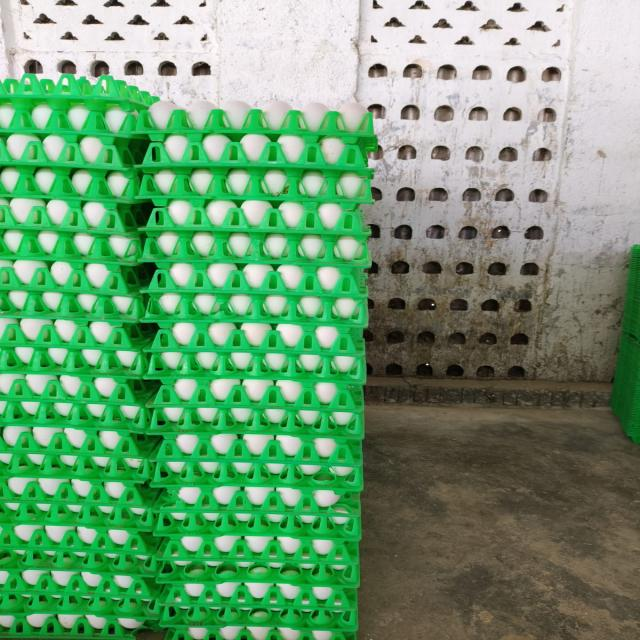egg_tray: (145, 201, 368, 326), (154, 486, 359, 614), (154, 484, 359, 606), (138, 102, 377, 205), (151, 443, 362, 540), (158, 514, 358, 610), (0, 478, 157, 600), (159, 536, 357, 630), (0, 198, 149, 321), (0, 522, 157, 638), (0, 316, 155, 431), (145, 322, 363, 400), (143, 200, 370, 268), (2, 478, 156, 576), (0, 95, 142, 201), (142, 262, 367, 327), (151, 433, 362, 502), (154, 490, 360, 560), (153, 483, 359, 552), (159, 556, 356, 628), (145, 322, 365, 386), (137, 100, 377, 157), (147, 378, 363, 437), (0, 524, 158, 601), (0, 74, 155, 148), (0, 468, 156, 541), (0, 96, 147, 170), (157, 535, 358, 589), (143, 231, 370, 277), (0, 574, 158, 640), (137, 164, 373, 208), (0, 520, 158, 584), (139, 134, 372, 177), (0, 132, 141, 202), (0, 198, 147, 265), (0, 421, 157, 482), (0, 470, 157, 531), (0, 259, 151, 322), (0, 95, 146, 160), (160, 592, 357, 640), (0, 318, 154, 379), (142, 200, 369, 241), (159, 562, 358, 608), (0, 374, 157, 432), (159, 581, 356, 625), (0, 131, 141, 191), (158, 559, 359, 600), (0, 550, 158, 600), (160, 592, 357, 632), (147, 402, 363, 438), (0, 594, 158, 640), (159, 604, 357, 640), (0, 560, 159, 602), (0, 73, 157, 111), (166, 609, 356, 640), (0, 198, 147, 238), (0, 166, 147, 206), (0, 339, 148, 378), (166, 610, 356, 640), (0, 524, 158, 560), (0, 225, 142, 265), (0, 259, 149, 297), (0, 610, 146, 640), (166, 624, 356, 640), (622, 245, 639, 338), (75, 578, 151, 598), (265, 536, 333, 556), (612, 385, 636, 436), (101, 529, 139, 546), (103, 482, 136, 501), (617, 340, 637, 371), (268, 487, 300, 502), (10, 492, 35, 510), (213, 486, 257, 496), (166, 518, 198, 530), (3, 583, 35, 594), (325, 142, 340, 161), (234, 536, 260, 546), (42, 581, 62, 594), (111, 241, 127, 257), (85, 461, 100, 476), (82, 144, 98, 157), (315, 588, 330, 600), (25, 478, 40, 490), (243, 536, 257, 547), (198, 487, 211, 498), (249, 384, 260, 395), (183, 538, 197, 546), (45, 478, 63, 484), (282, 438, 297, 445), (56, 485, 64, 498), (335, 594, 346, 603), (44, 485, 52, 497), (249, 143, 257, 155), (47, 153, 60, 160), (279, 536, 289, 545), (293, 602, 308, 608), (47, 141, 55, 152), (623, 376, 634, 384), (270, 587, 277, 599), (270, 588, 277, 600), (118, 574, 127, 583), (289, 142, 299, 150), (335, 594, 346, 601), (183, 486, 198, 491), (203, 499, 211, 508), (303, 490, 313, 497), (216, 538, 227, 544), (179, 388, 186, 397), (290, 518, 295, 530), (13, 479, 23, 485), (309, 595, 316, 603), (238, 586, 247, 592), (50, 528, 56, 537), (47, 580, 57, 585), (336, 602, 343, 609), (3, 524, 10, 531), (14, 235, 21, 242), (234, 520, 242, 526), (133, 580, 141, 586), (318, 591, 327, 596), (14, 486, 19, 495), (238, 587, 247, 592), (261, 384, 268, 390), (57, 572, 63, 579), (65, 588, 72, 594), (171, 591, 175, 601), (205, 542, 213, 547), (41, 242, 50, 246), (262, 518, 268, 524), (260, 381, 272, 384), (66, 429, 78, 432), (345, 601, 352, 606), (317, 496, 324, 501), (70, 505, 81, 508), (146, 244, 150, 252), (127, 162, 135, 166), (112, 178, 116, 186), (91, 489, 95, 497), (223, 434, 228, 440), (317, 383, 332, 385), (78, 489, 83, 495), (244, 620, 251, 624), (317, 460, 326, 463), (60, 563, 65, 568), (7, 560, 11, 566), (334, 603, 340, 607), (161, 571, 165, 577), (154, 504, 158, 510), (213, 498, 219, 502), (228, 487, 236, 490), (271, 103, 283, 105), (143, 498, 150, 501), (3, 162, 10, 165), (146, 255, 151, 259), (64, 478, 69, 482), (279, 523, 284, 527), (234, 497, 238, 502), (252, 495, 256, 500), (3, 557, 9, 560), (0, 153, 3, 159), (287, 392, 291, 396), (343, 445, 347, 449), (318, 577, 323, 580), (317, 389, 322, 392), (312, 623, 315, 628), (308, 115, 311, 120), (37, 496, 42, 499), (334, 598, 337, 602), (349, 582, 352, 586), (318, 570, 322, 573), (300, 544, 303, 548), (162, 531, 166, 534), (177, 381, 181, 384), (220, 496, 223, 500), (626, 385, 630, 388), (0, 244, 2, 250), (103, 584, 106, 588), (76, 578, 79, 582), (350, 535, 354, 538), (249, 388, 252, 392), (265, 618, 268, 622), (66, 479, 69, 483), (263, 629, 268, 631), (103, 506, 108, 508), (223, 434, 226, 437), (148, 240, 151, 243), (316, 544, 319, 547), (254, 587, 257, 590), (140, 589, 143, 592), (5, 178, 7, 182), (141, 106, 145, 108), (188, 383, 195, 384), (312, 589, 314, 592), (325, 600, 328, 602), (283, 586, 286, 588), (138, 495, 140, 498), (194, 506, 197, 508), (314, 500, 316, 503), (139, 104, 142, 106), (336, 496, 338, 499), (282, 516, 284, 519), (247, 514, 249, 517), (273, 514, 276, 516), (311, 616, 313, 619), (3, 482, 4, 488), (78, 481, 84, 482), (11, 554, 15, 555), (127, 155, 129, 157), (81, 481, 85, 482), (320, 603, 322, 605), (159, 531, 161, 533), (67, 480, 69, 482), (47, 479, 51, 480), (234, 560, 238, 561), (308, 500, 310, 502), (54, 565, 58, 566), (239, 635, 241, 637), (214, 436, 217, 437), (123, 183, 124, 186), (0, 172, 1, 175), (178, 567, 181, 568), (248, 270, 251, 271), (9, 253, 12, 254), (84, 572, 87, 573), (18, 582, 19, 585), (202, 507, 205, 508), (87, 138, 90, 139), (205, 103, 208, 104), (62, 566, 63, 568), (98, 550, 99, 552), (265, 634, 266, 636), (117, 189, 119, 190), (288, 623, 290, 624), (224, 525, 226, 526), (244, 380, 245, 382), (10, 480, 11, 482), (220, 548, 221, 550), (161, 498, 162, 500), (314, 498, 315, 500), (11, 238, 13, 239), (27, 510, 29, 511), (151, 582, 152, 584), (271, 622, 272, 624), (271, 618, 273, 619), (67, 484, 68, 486), (59, 554, 60, 555), (211, 578, 212, 579), (45, 487, 46, 488), (56, 158, 57, 159), (7, 174, 8, 175), (0, 108, 1, 109), (109, 543, 110, 544), (287, 529, 288, 530), (258, 527, 259, 528), (351, 585, 352, 586), (332, 578, 333, 579), (252, 556, 253, 557), (285, 143, 286, 144), (336, 518, 337, 519), (321, 105, 322, 106), (193, 636, 196, 636), (142, 156, 143, 156), (259, 540, 259, 542), (69, 492, 71, 492), (180, 236, 182, 236), (234, 381, 238, 381), (230, 381, 230, 381), (67, 321, 72, 321), (50, 498, 50, 499), (301, 499, 301, 499), (249, 139, 251, 139), (86, 478, 88, 478), (91, 476, 93, 476), (2, 256, 3, 256), (85, 254, 85, 254), (167, 598, 168, 598), (183, 492, 183, 493), (250, 483, 250, 483), (245, 590, 245, 590), (172, 624, 172, 626), (245, 623, 247, 623)
